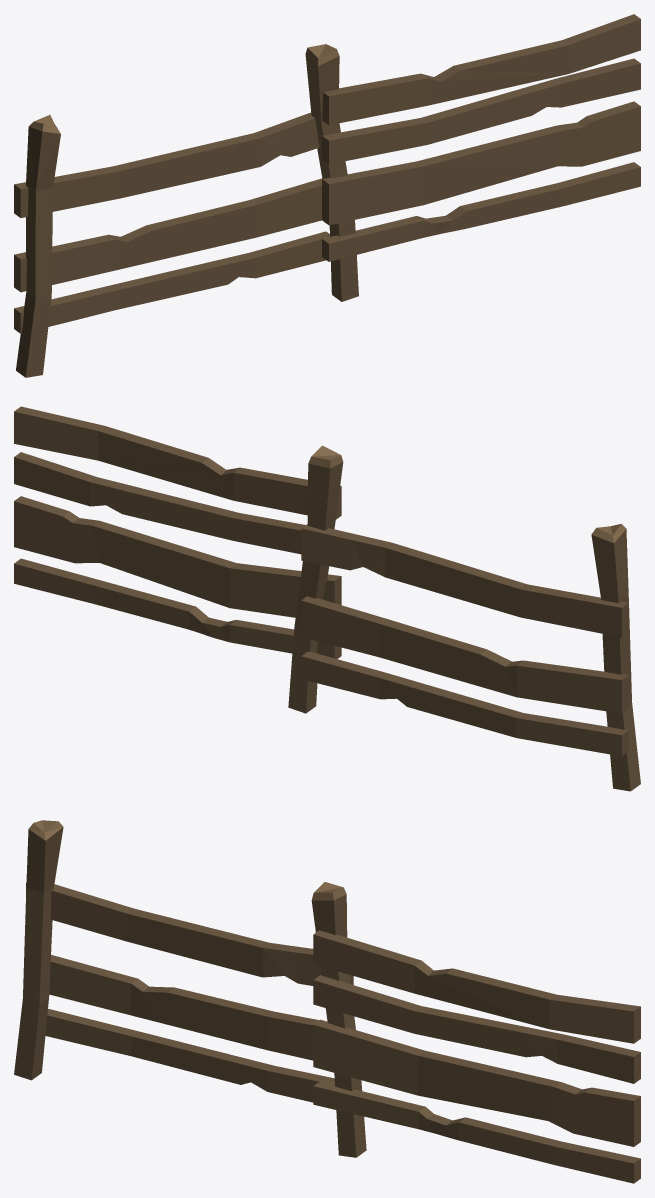
The model's file is fence_a.glb.
3 renders of one model, top to bottom at view 1: azimuth 30°, elevation 25°; view 2: azimuth 150°, elevation 25°; view 3: azimuth 330°, elevation 25°, orthographic. The views are drawn at different scales.
Visible parts, largest first — view 1: SM_Bld_Fence_01; view 2: SM_Bld_Fence_01; view 3: SM_Bld_Fence_01.
Boxes of the visible parts, box(x1,y1,x2,y2) form: SM_Bld_Fence_01: box(14, 14, 640, 377); SM_Bld_Fence_01: box(14, 406, 640, 791); SM_Bld_Fence_01: box(14, 820, 640, 1183).
Bounding box in the file's own units: 312 × 125 × 26.47.
Materials: 1 (1 with a texture image).
